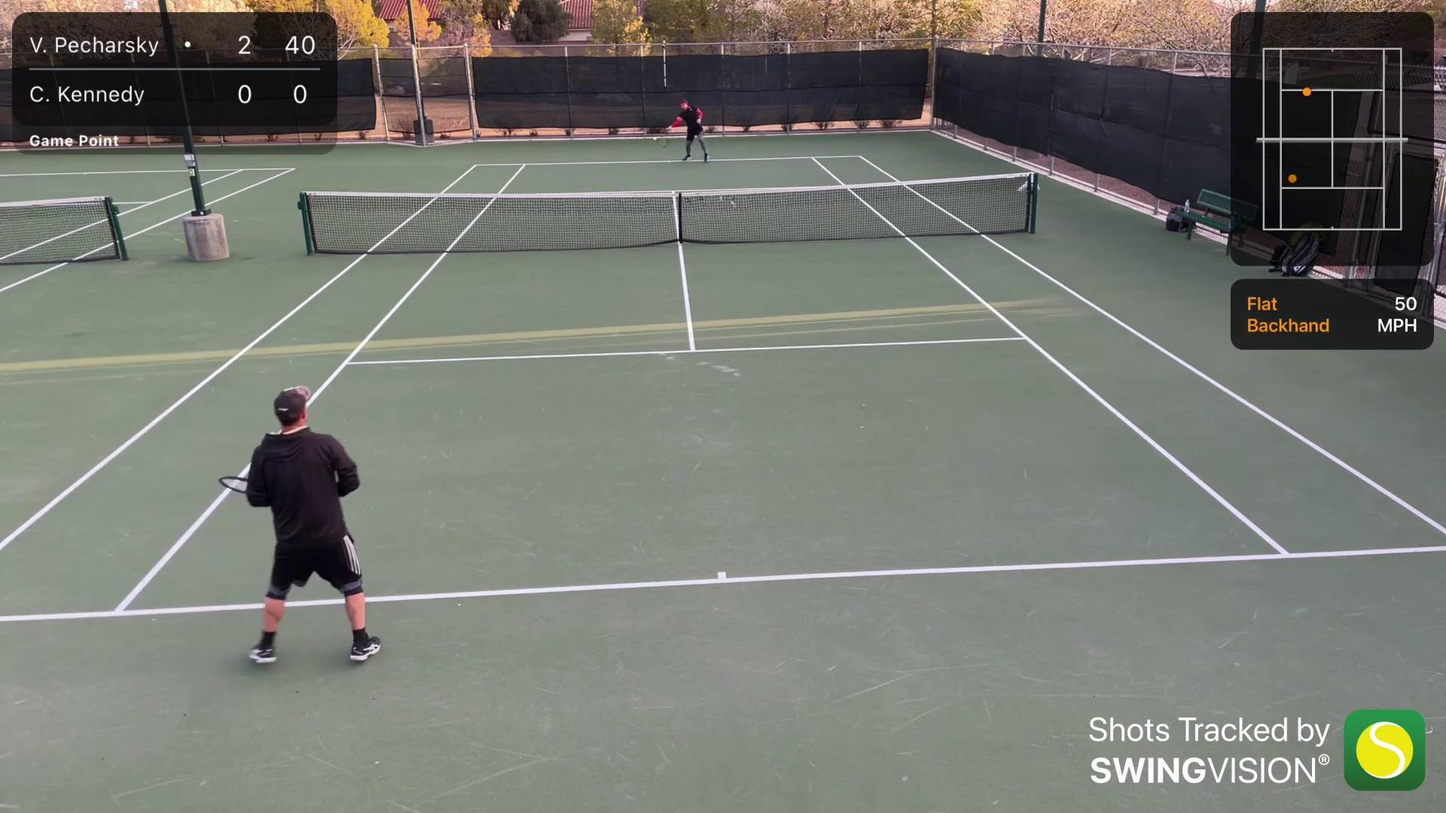ball: (653, 135, 658, 142)
